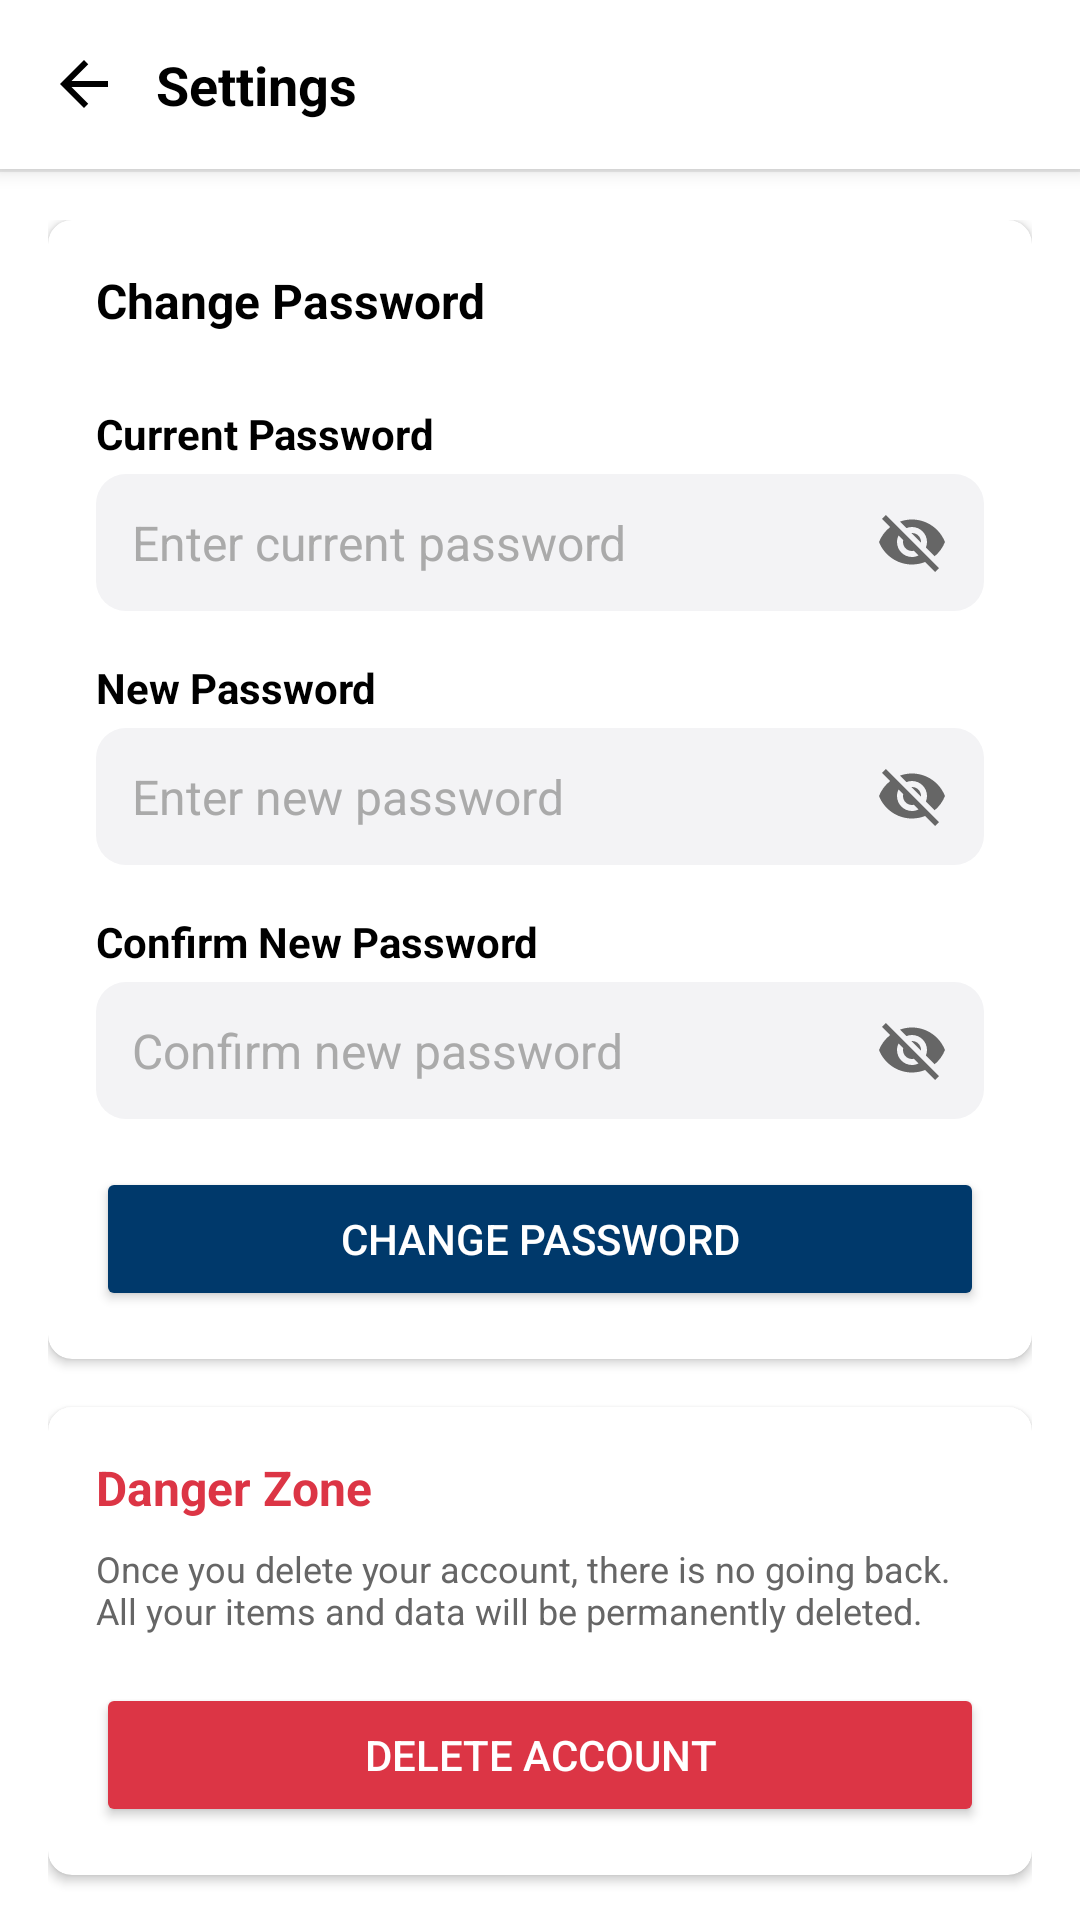

Icon click points for this 1080x1920 phone screenshot, format (x,y):
Back: (84,84)
Toggle password visibility: (912,543), (912,797), (912,1051)
